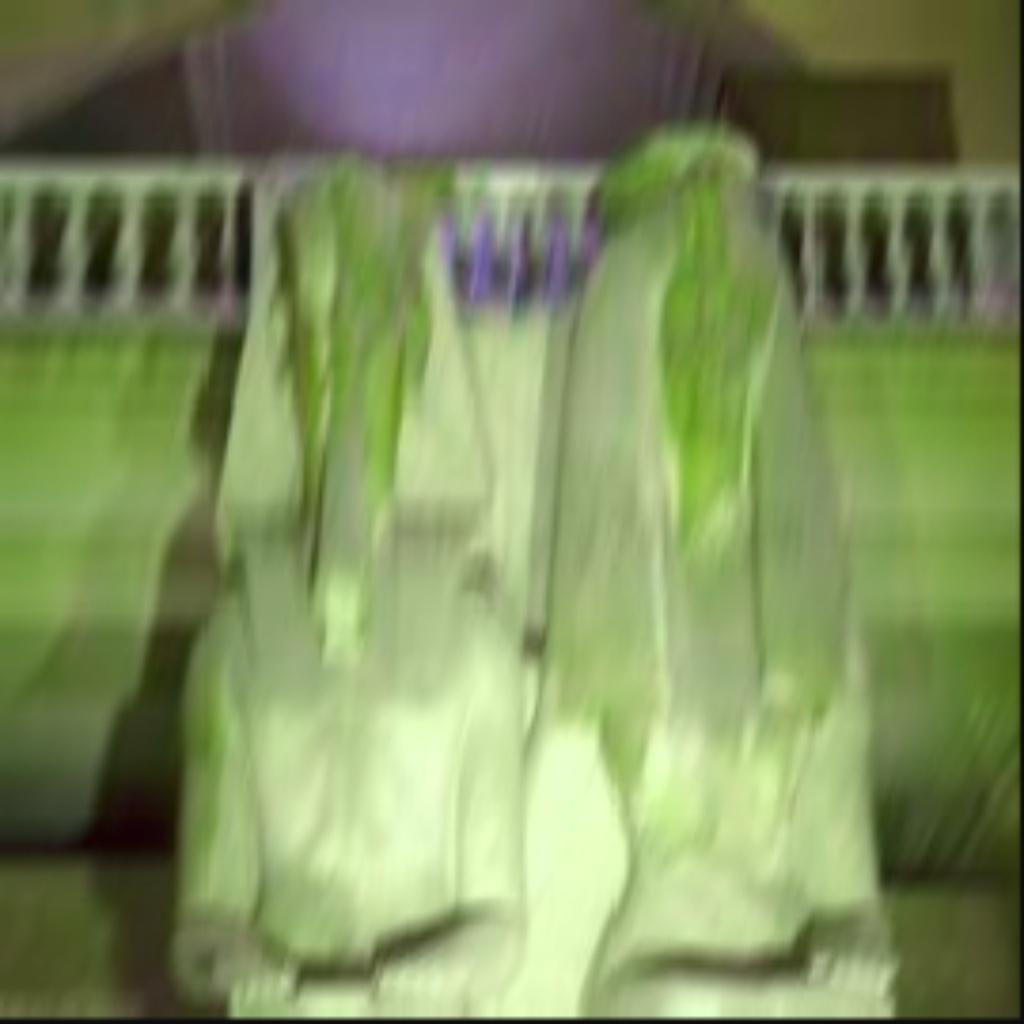Amenhotep III and Tiye: (163, 120, 899, 1014)
